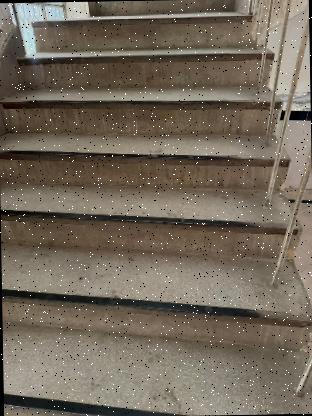tree: (0, 2, 305, 416)
